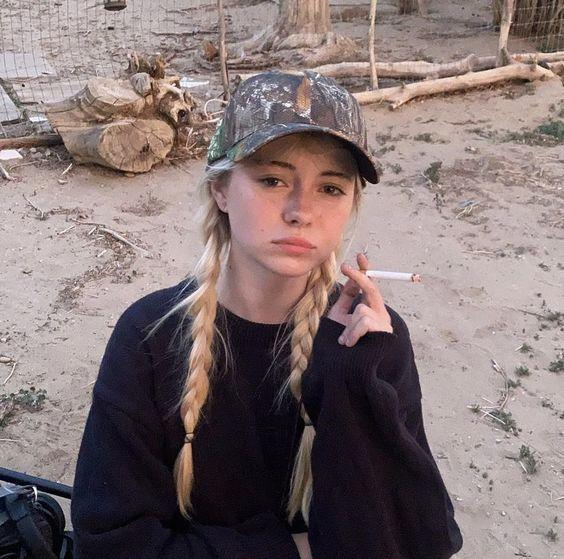cigarette: (356, 270, 423, 283)
